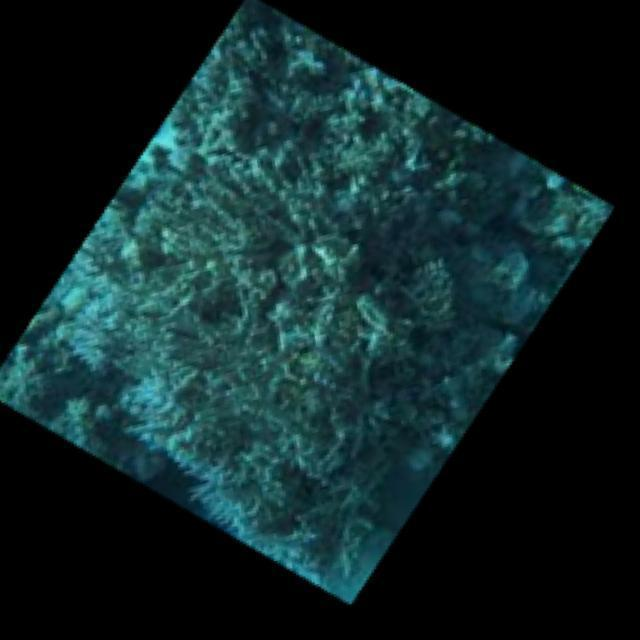Dead Coral: (88, 133, 489, 579)
